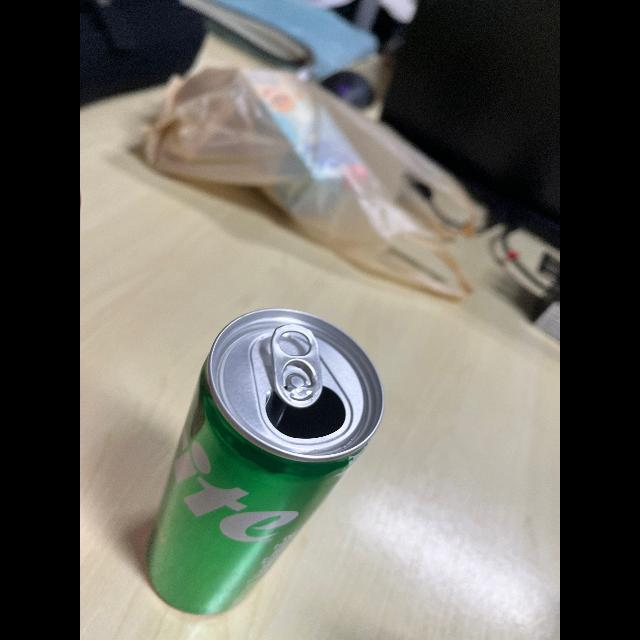can: (136, 299, 384, 611)
